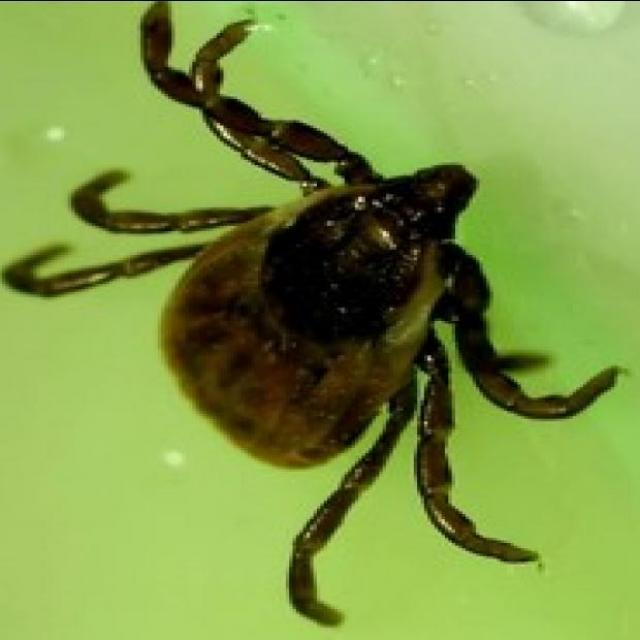Rhipicephalus Sanguineus-F: (6, 0, 618, 619)
